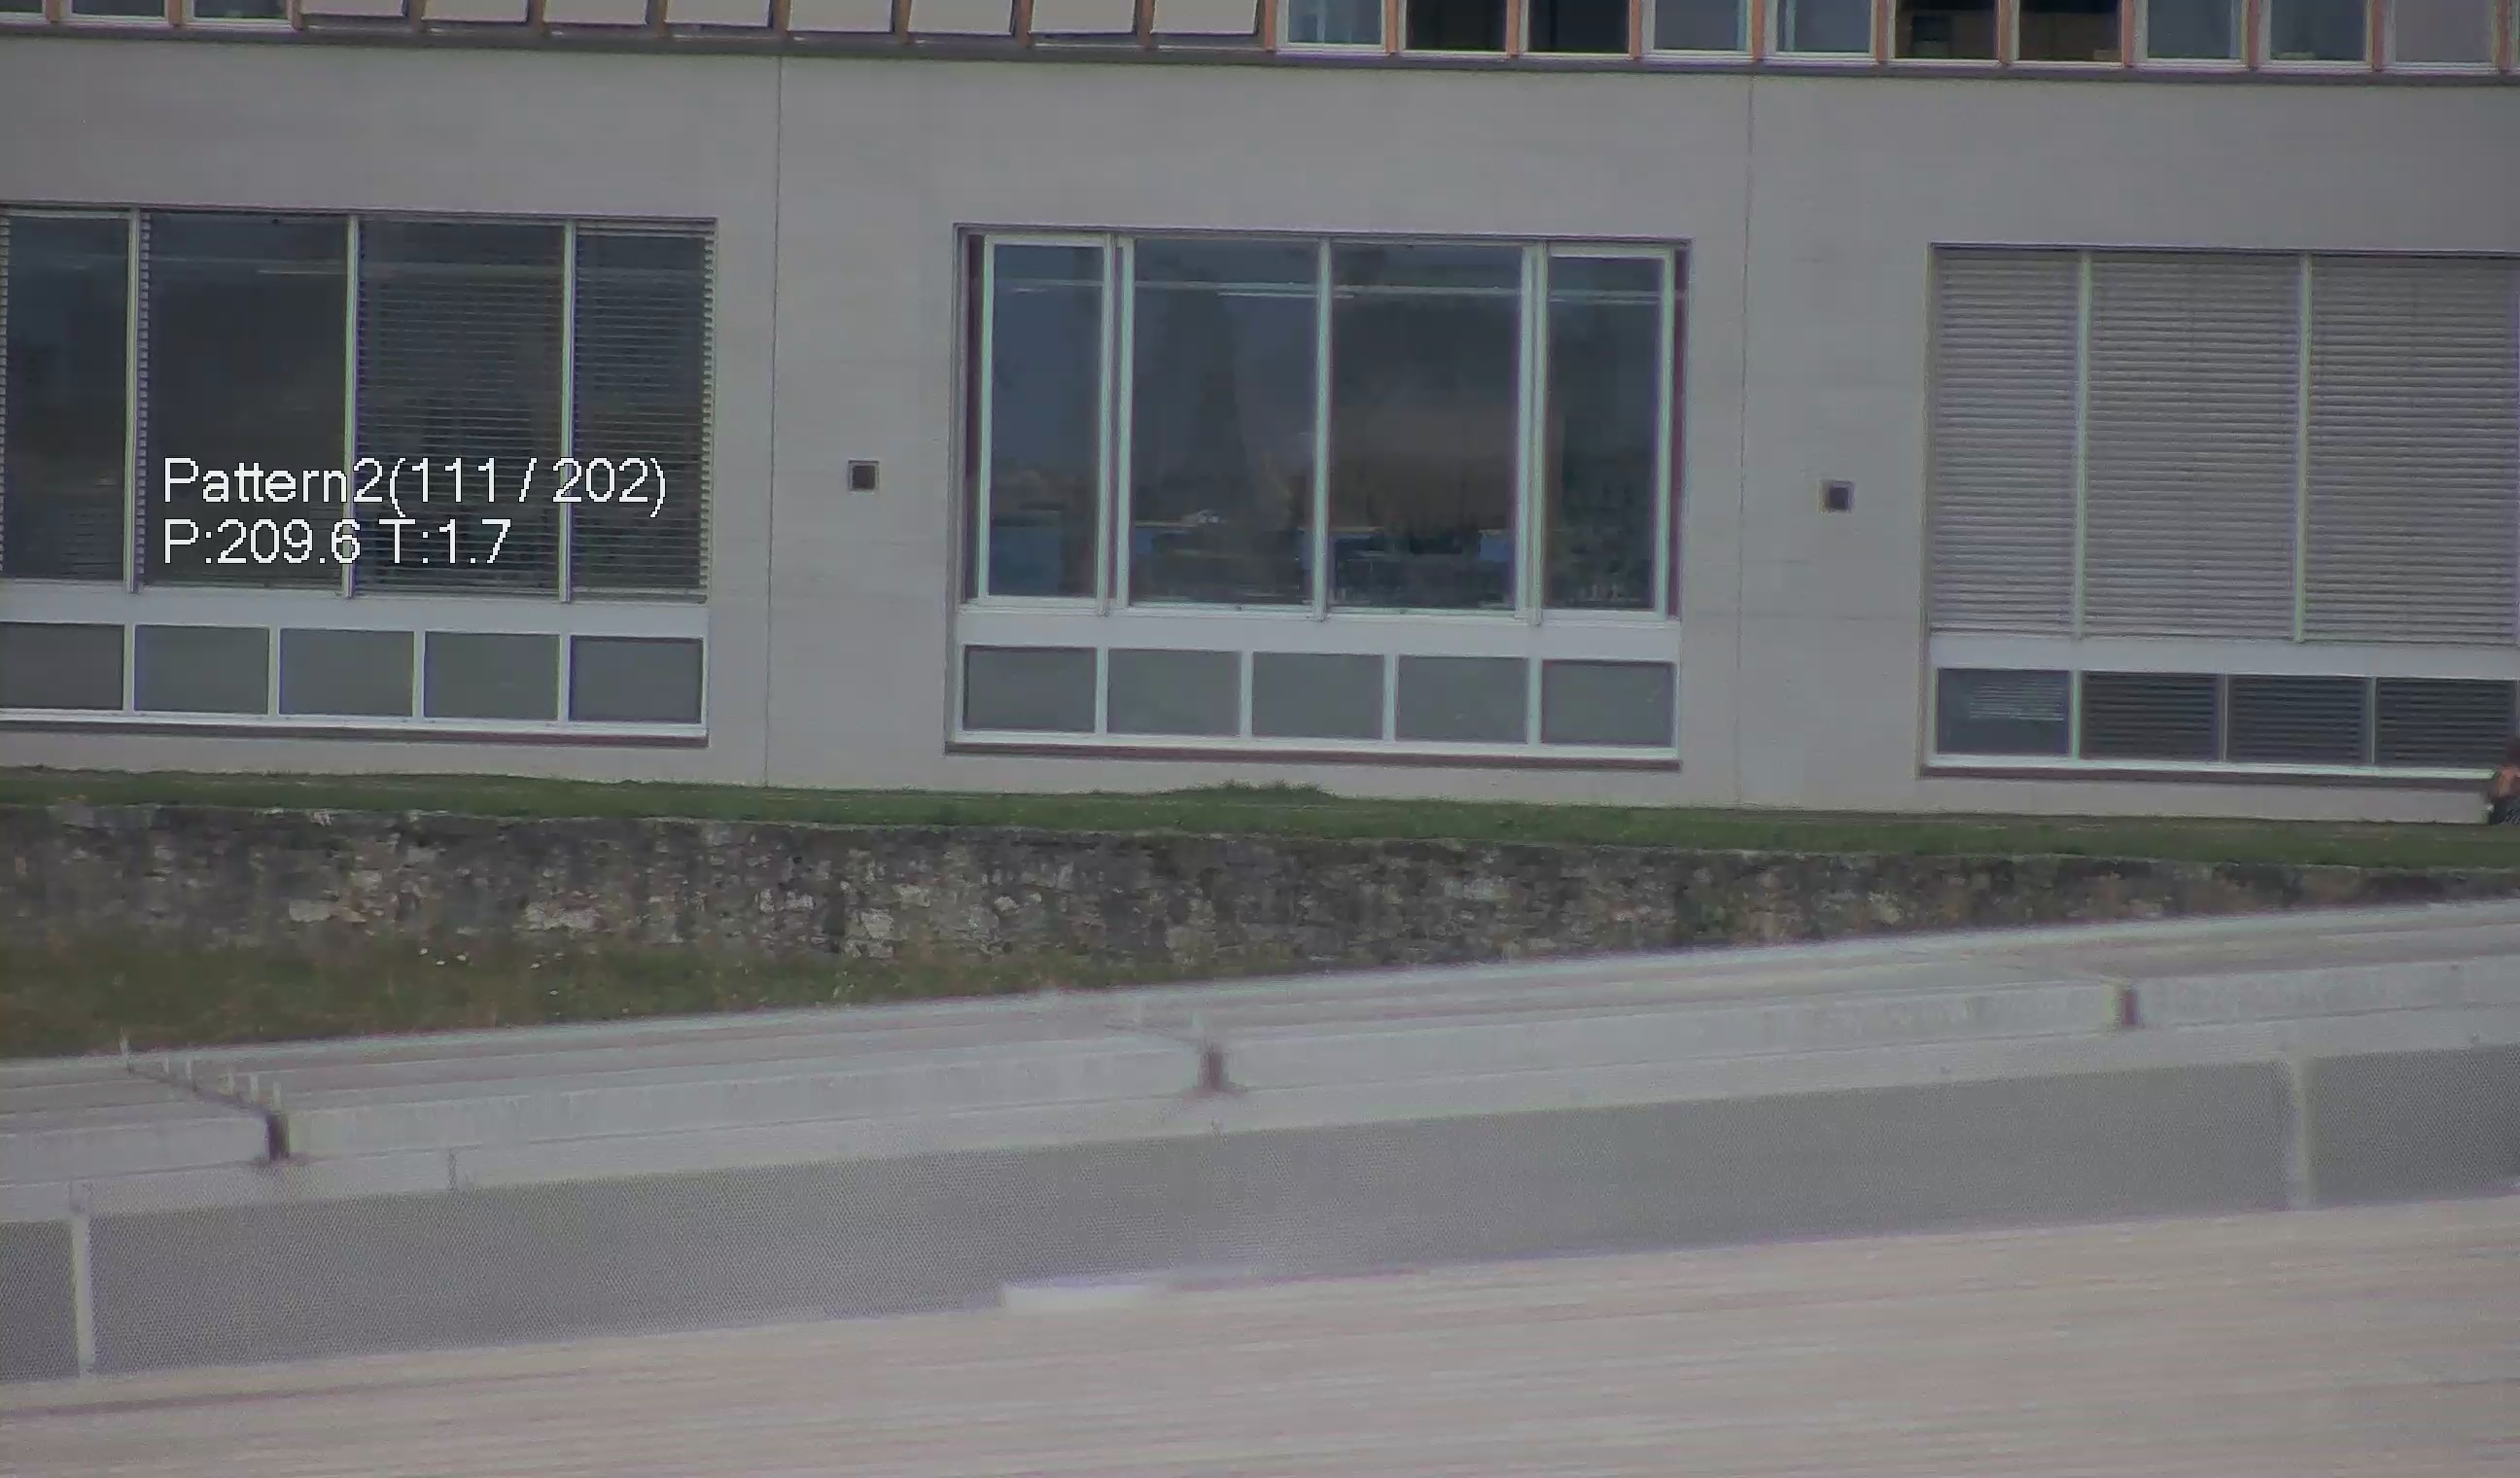Other: (1184, 1019, 1249, 1107)
